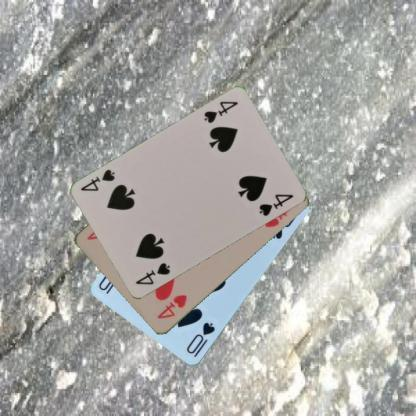10s: (184, 319, 216, 359)
4h: (154, 292, 188, 321)
4s: (132, 260, 172, 286), (201, 99, 239, 125)
